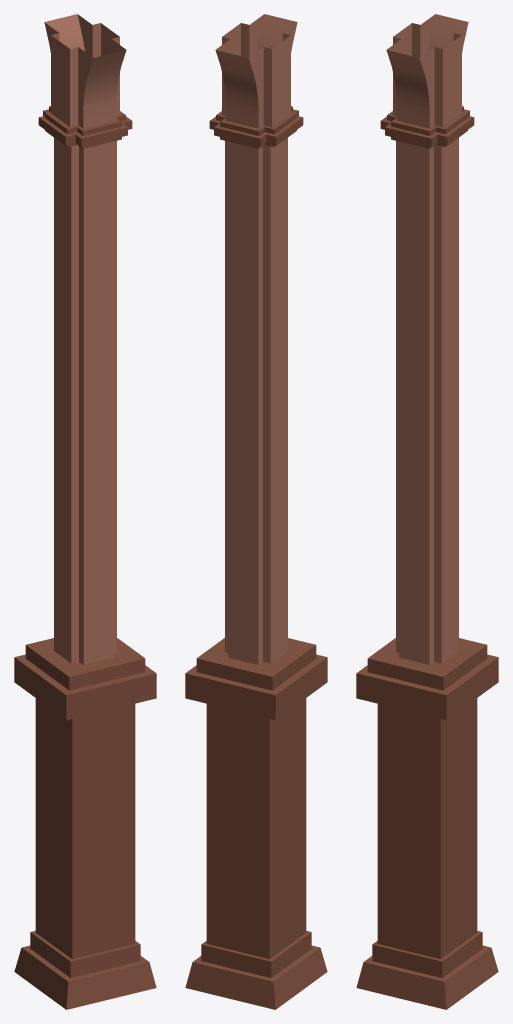
The model's file is SM_Column.fbx.
3 renders of one model, left to right at view 1: azimuth 30°, elevation 25°; view 2: azimuth 150°, elevation 25°; view 3: azimuth 330°, elevation 25°, orthographic.
Parts seen in each view (by area): view 1: Column; view 2: Column; view 3: Column.
Boxes of the visible parts, box(x1,y1,x2,y2) form: Column: box(14, 14, 156, 1009); Column: box(185, 14, 327, 1009); Column: box(356, 14, 498, 1009).
Size of the model in its own units: 60 by 600 by 60.
